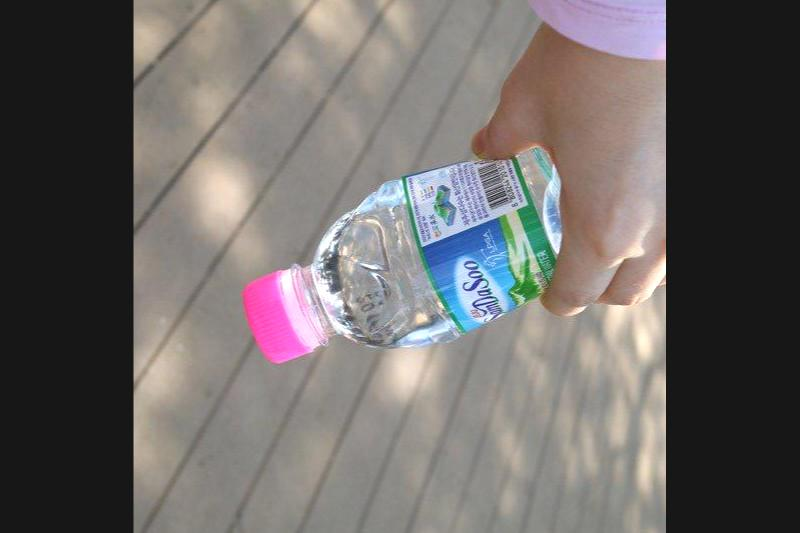bottle: (235, 100, 665, 370)
